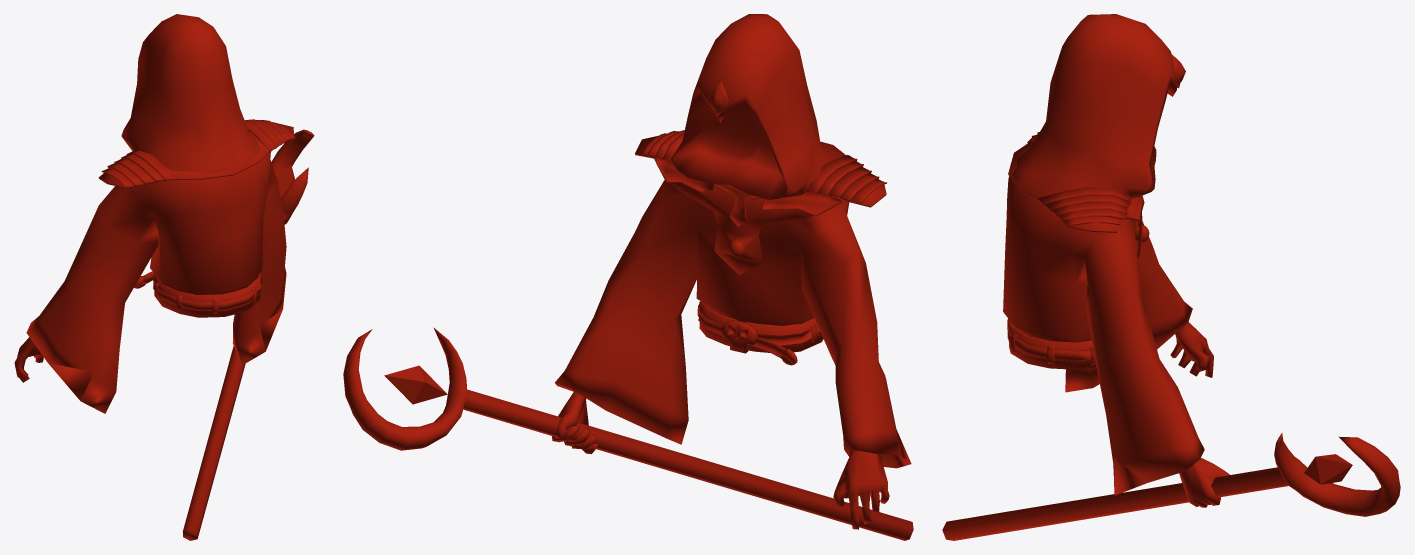
File: top_000067.obj
3 views of the same model, side by side, from view 1: azimuth 30°, elevation 25°; view 2: azimuth 150°, elevation 25°; view 3: azimuth 270°, elevation 25° (orthographic). The views are drawn at different scales.
Parts seen in each view (by area): view 1: LowPoly_Warlock.000_Plane.005; view 2: LowPoly_Warlock.000_Plane.005; view 3: LowPoly_Warlock.000_Plane.005.
Boxes of the visible parts, <box> form: LowPoly_Warlock.000_Plane.005: <box>14,14,314,540</box>; LowPoly_Warlock.000_Plane.005: <box>343,14,913,540</box>; LowPoly_Warlock.000_Plane.005: <box>942,14,1400,540</box>.
Size of the model in its own units: 1.53 by 1.83 by 1.35.
